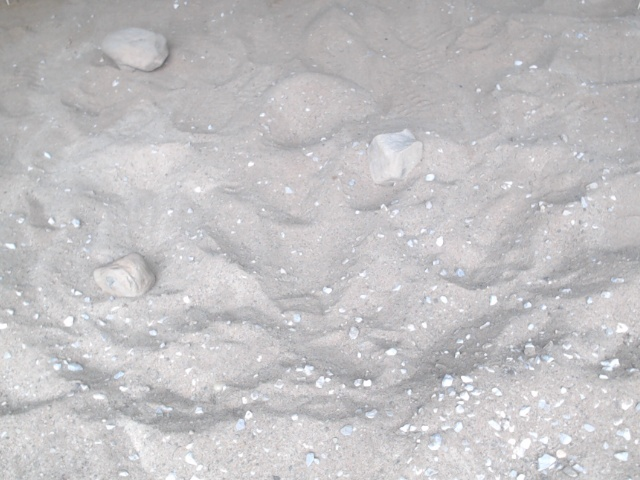rock: (97, 24, 173, 77), (364, 125, 425, 190), (89, 249, 159, 302)
